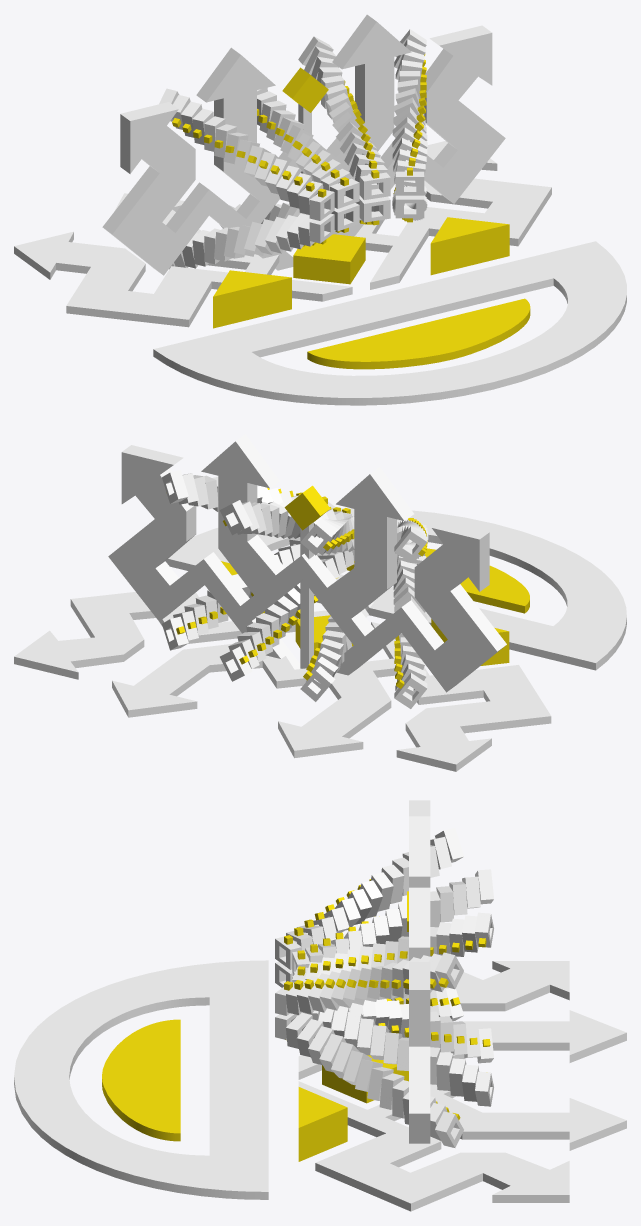
File: EB_main_scene.glb
The picture shows the model from 3 angles, top to bottom: view 1: azimuth 30°, elevation 25°; view 2: azimuth 150°, elevation 25°; view 3: azimuth 270°, elevation 25°; orthographic projection. The views are drawn at different scales.
Visible parts, largest first — view 1: arrows_building, mouth_outter, arrows, mouth_inner, eye_right, eye_left, diamond, right_white_gene (×4), left_white_gene (×4), pedestal_diamon; view 2: arrows_building, arrows, mouth_outter, left_white_gene (×4), right_white_gene (×4), mouth_inner, pedestal, pedestal_diamon, eye_left, diamond; view 3: mouth_outter, arrows, mouth_inner, arrows_building, eye_right, right_white_gene (×3), diamond.
Part boxes in pixels (left/top/right/bottom): arrows_building: left=102, top=14, right=505, bottom=275; mouth_outter: left=153, top=241, right=626, bottom=405; arrows: left=14, top=141, right=551, bottom=327; mouth_inner: left=307, top=298, right=530, bottom=369; eye_right: left=430, top=217, right=509, bottom=275; eye_left: left=213, top=270, right=291, bottom=328; diamond: left=293, top=234, right=365, bottom=284; right_white_gene (×4): left=359, top=171, right=424, bottom=222; left_white_gene (×4): left=309, top=178, right=359, bottom=243; pedestal_diamon: left=282, top=67, right=328, bottom=112; arrows_building: left=108, top=434, right=506, bottom=692; arrows: left=14, top=592, right=551, bottom=771; mouth_outter: left=165, top=508, right=626, bottom=670; left_white_gene (×4): left=300, top=519, right=427, bottom=708; right_white_gene (×4): left=162, top=470, right=252, bottom=681; mouth_inner: left=346, top=548, right=529, bottom=613; pedestal: left=300, top=522, right=313, bottom=668; pedestal_diamon: left=284, top=485, right=330, bottom=530; eye_left: left=431, top=619, right=509, bottom=665; diamond: left=295, top=615, right=353, bottom=653; mouth_outter: left=14, top=960, right=268, bottom=1199; arrows: left=298, top=961, right=626, bottom=1211; mouth_inner: left=102, top=1019, right=180, bottom=1141; arrows_building: left=409, top=800, right=430, bottom=1143; eye_right: left=298, top=1087, right=347, bottom=1161; right_white_gene (×3): left=435, top=952, right=493, bottom=1147; diamond: left=322, top=1055, right=408, bottom=1103.
Size of the model in its own units: 13.59 by 6.01 by 13.85.
